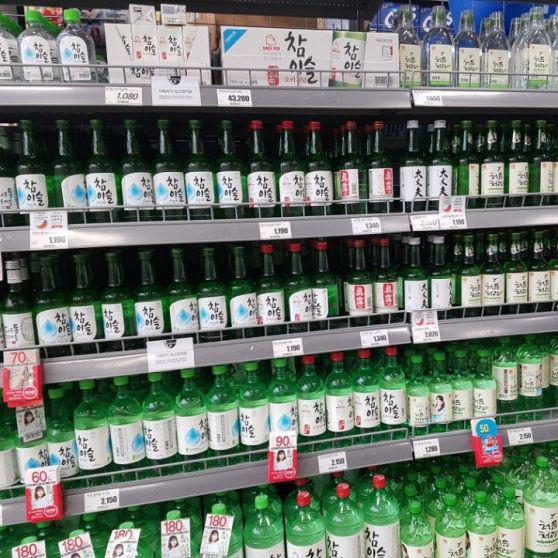soju: (1, 334, 554, 484), (1, 224, 558, 356), (4, 105, 557, 219), (17, 447, 531, 558)
